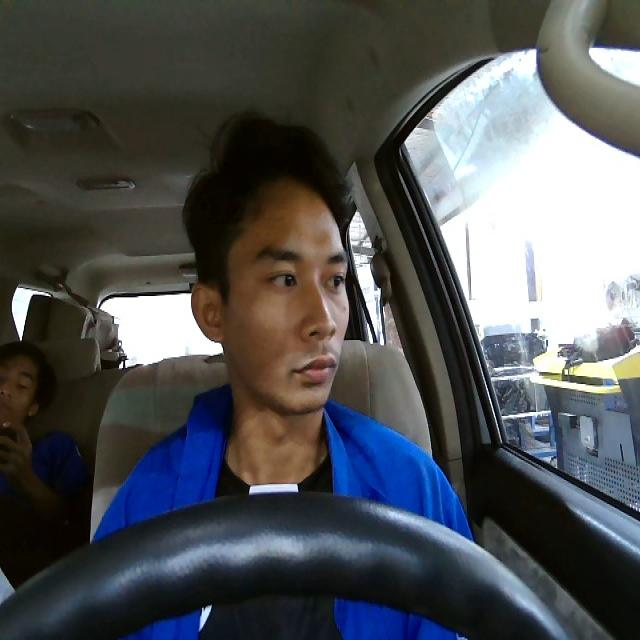seeing_right: (189, 176, 350, 415)
